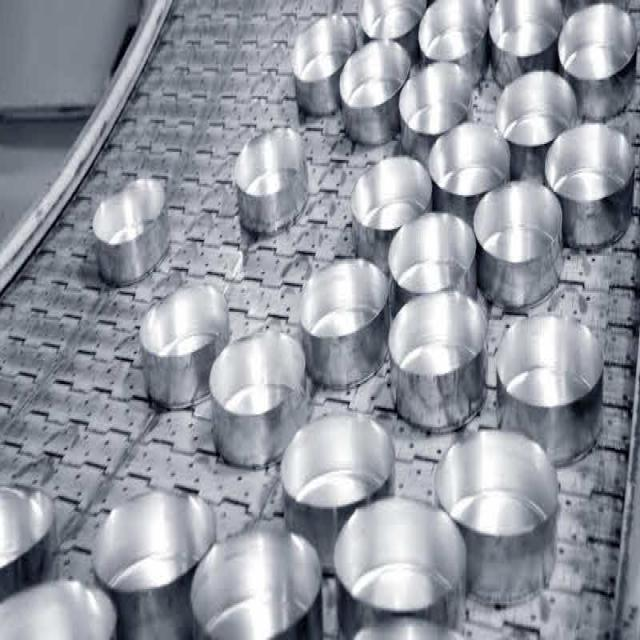Lata: (332, 5, 631, 308)
